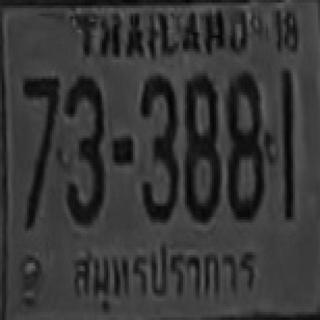N03: (62, 73, 104, 222), (139, 73, 177, 220)
N07: (21, 76, 58, 179), (21, 75, 58, 167)
N08: (224, 72, 262, 218), (183, 73, 218, 220)
P57: (62, 240, 269, 311)
